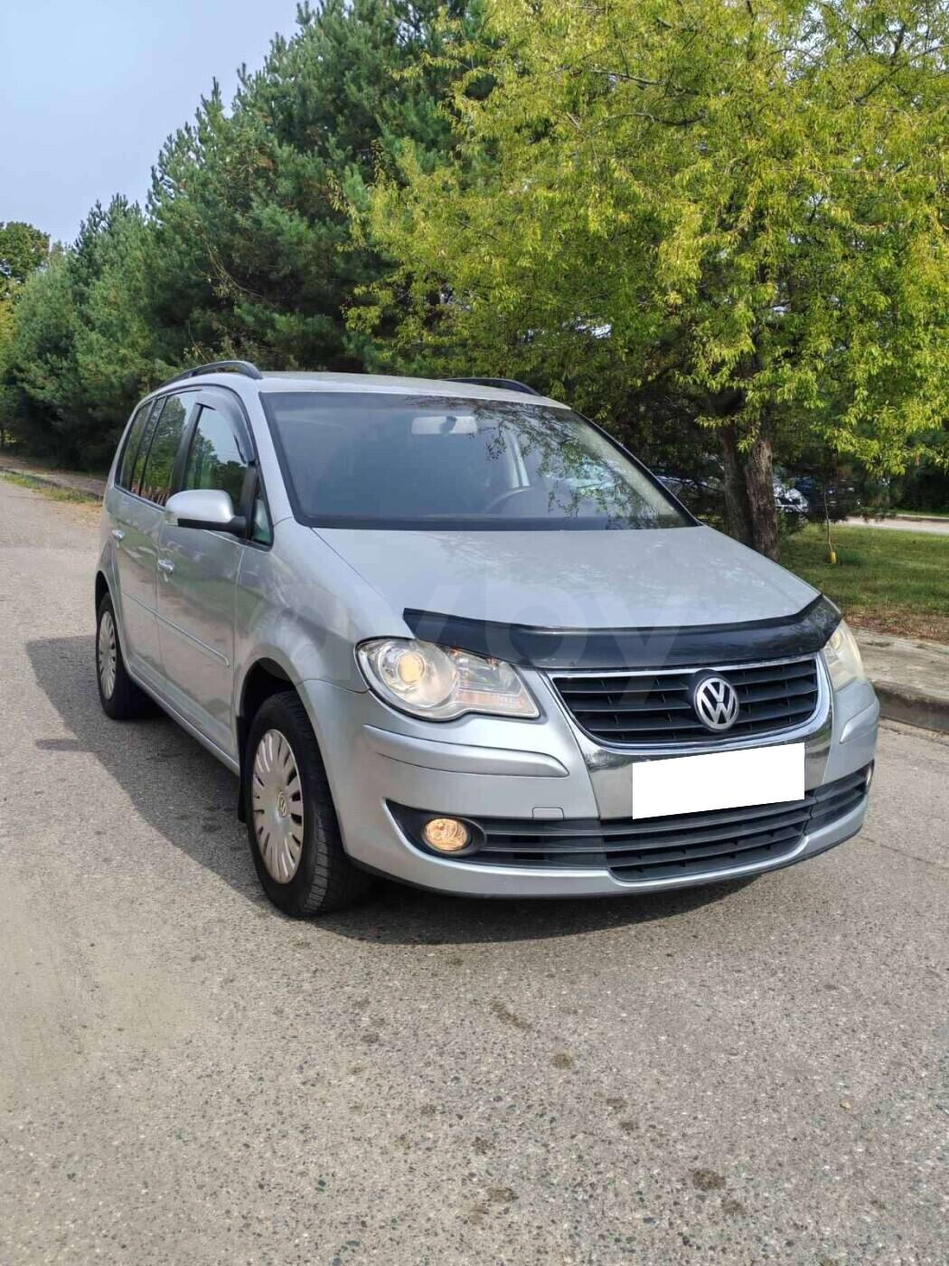Touran_2006-2010: (92, 362, 879, 935)
